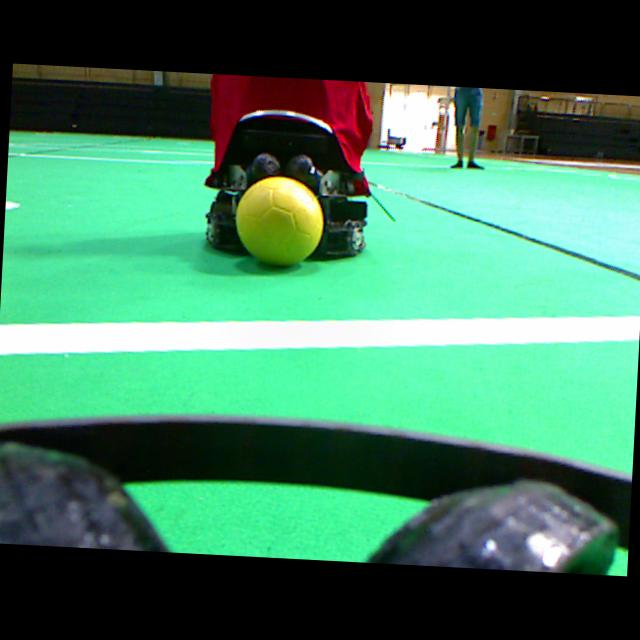ball: (236, 176, 322, 265)
